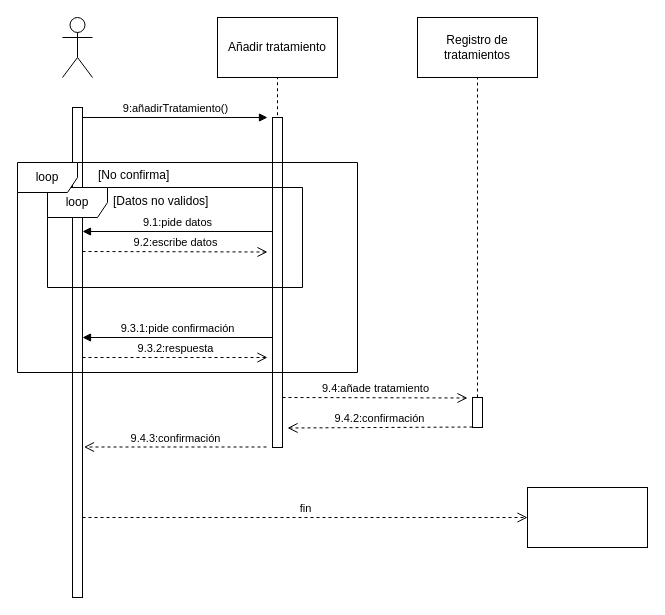
Some shapes in this 665 by 615 pixel diagram are drawn without their labels. The centre of each missing label's shape, as x and y in pixels:
Gestionar paciente: (587,517)
Secretario: (77,47)
